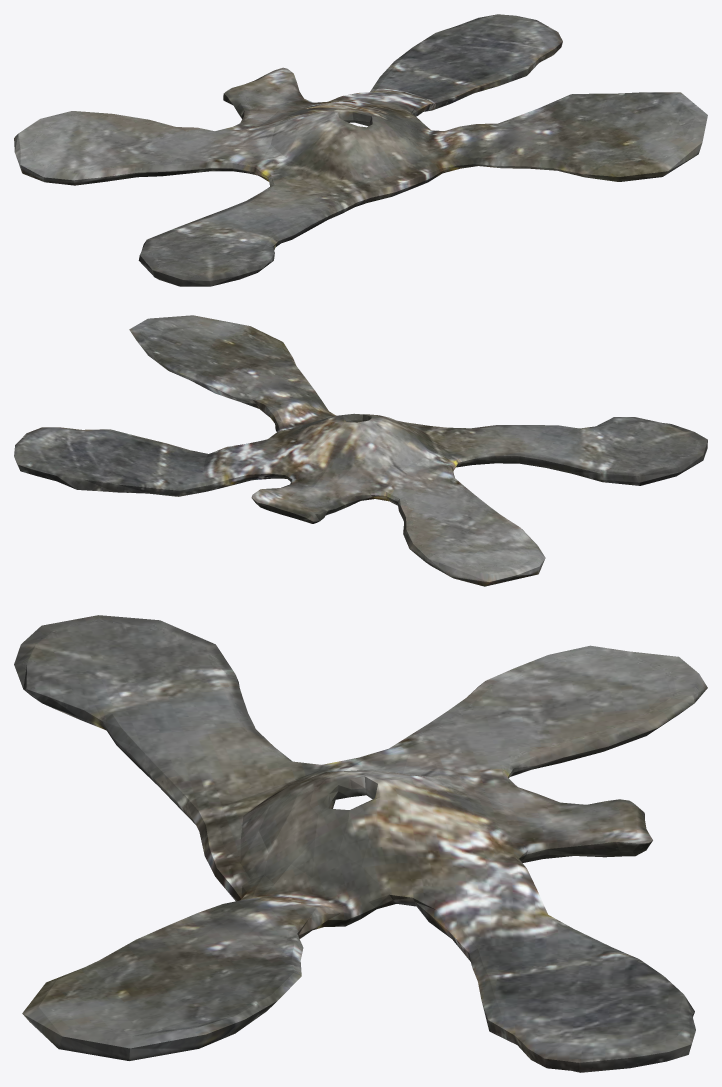
The model's file is antiquity7_76.fbx.
The picture shows the model from 3 angles, top to bottom: view 1: azimuth 30°, elevation 25°; view 2: azimuth 150°, elevation 25°; view 3: azimuth 270°, elevation 25°; orthographic projection. The views are drawn at different scales.
Visible parts, largest first — view 1: 0510; view 2: 0510; view 3: 0510.
Part boxes in pixels (bbox=[...]): 0510: bbox=[14, 14, 707, 286]; 0510: bbox=[14, 315, 707, 586]; 0510: bbox=[14, 615, 707, 1072].
Bounding box in the file's own units: 37.62 × 3.55 × 24.53.
Materials: 1 (1 with a texture image).
